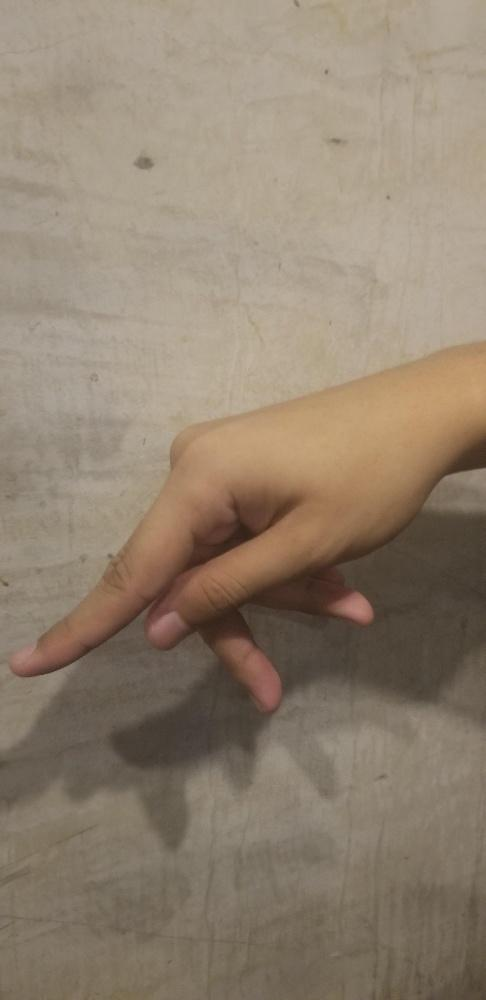p: (7, 335, 419, 709)
